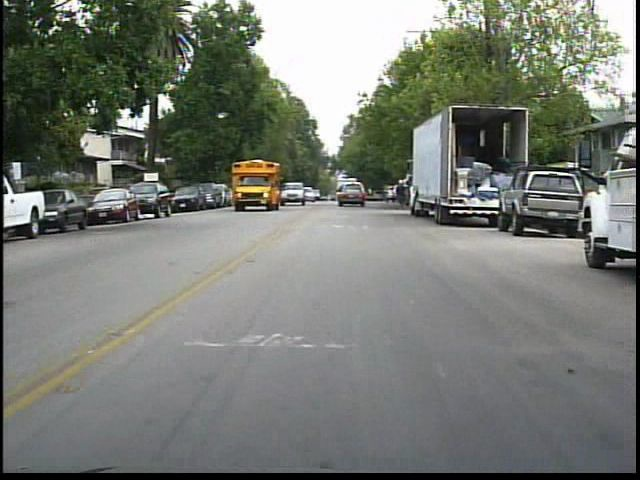person: (393, 177, 412, 216)
